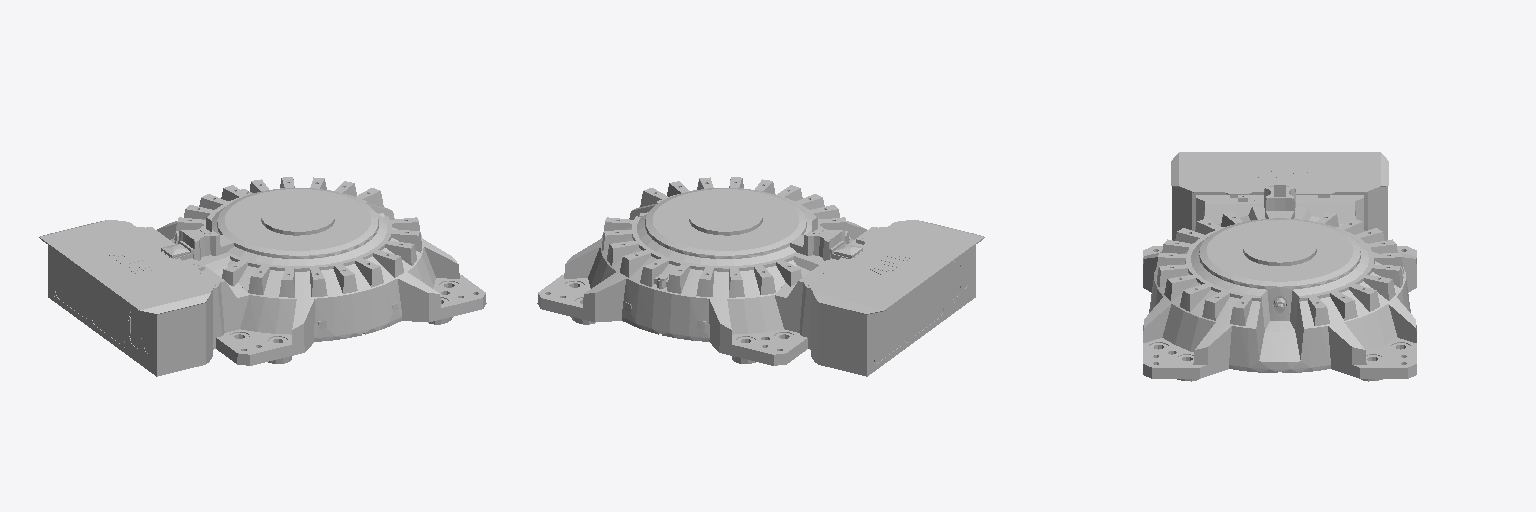
3 views of the same model, side by side, from view 1: azimuth 30°, elevation 25°; view 2: azimuth 150°, elevation 25°; view 3: azimuth 270°, elevation 25° (orthographic).
Parts seen in each view (by area): view 1: BASE2:MeshBody1 rawMesh; view 2: BASE2:MeshBody1 rawMesh; view 3: BASE2:MeshBody1 rawMesh.
Boxes of the visible parts, x1,y1,x2,y2 form: BASE2:MeshBody1 rawMesh: [39, 177, 486, 376]; BASE2:MeshBody1 rawMesh: [537, 177, 984, 376]; BASE2:MeshBody1 rawMesh: [1143, 152, 1416, 381].
Bounding box in the file's own units: 101 × 28.1 × 72.08.